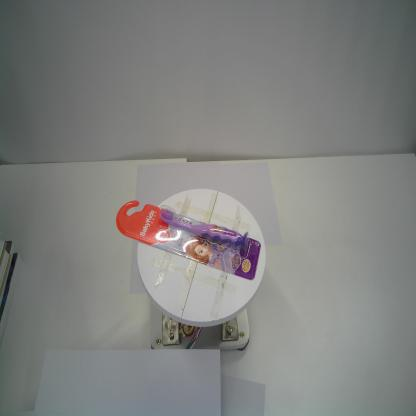Personal Hygiene: (116, 200, 261, 281)
